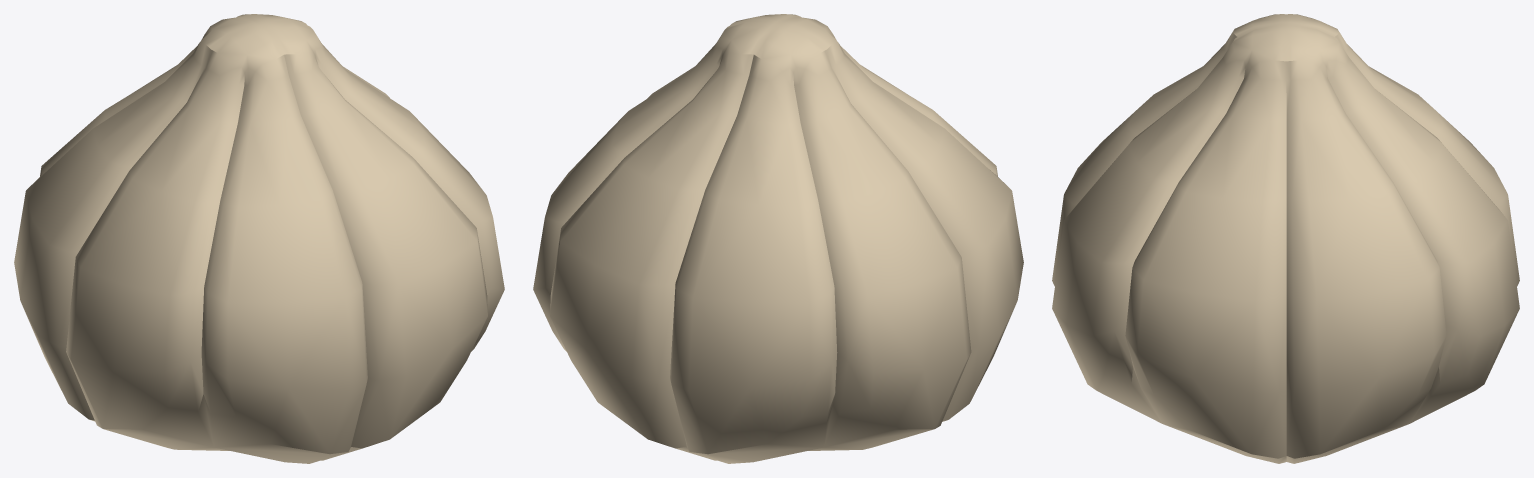
Rendered from Chukaman.fbx.
The picture shows the model from 3 angles, left to right: view 1: azimuth 30°, elevation 25°; view 2: azimuth 150°, elevation 25°; view 3: azimuth 270°, elevation 25°; orthographic projection.
Parts seen in each view (by area): view 1: Chukaman; view 2: Chukaman; view 3: Chukaman.
Boxes of the visible parts, x1,y1,x2,y2 form: Chukaman: (14, 14, 504, 463); Chukaman: (533, 14, 1023, 463); Chukaman: (1052, 14, 1519, 463).
Size of the model in its own units: 26.86 by 26.21 by 26.86.
